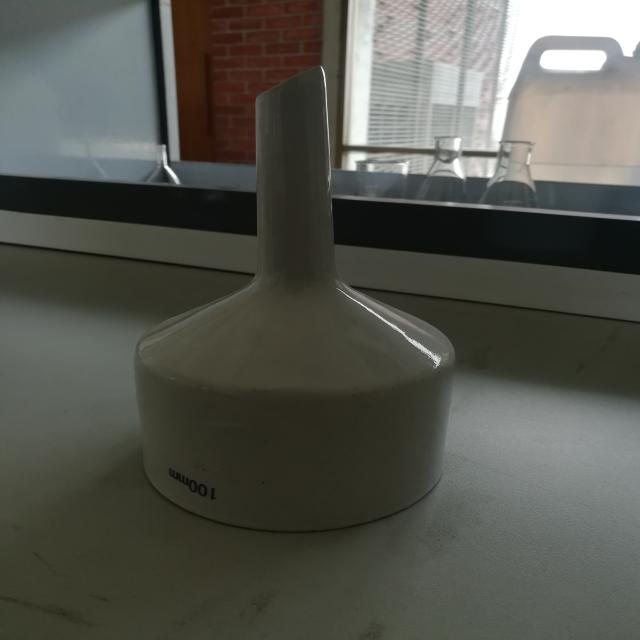Buchner_Funnel: (91, 41, 507, 578)
